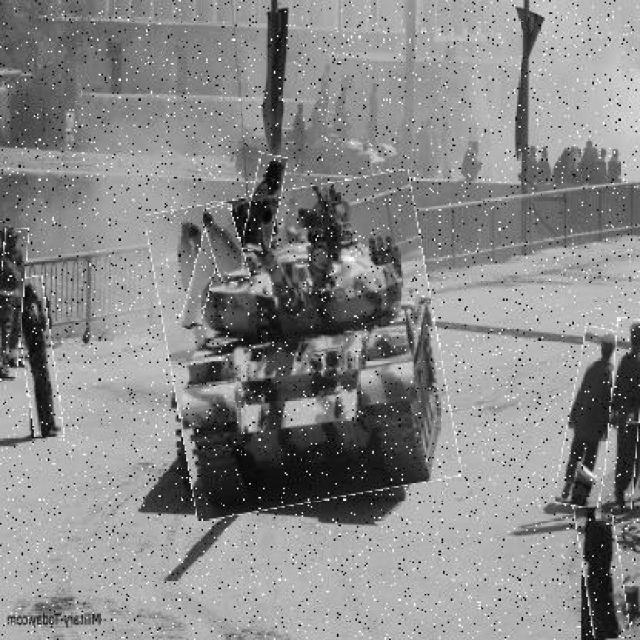Person: (563, 330, 623, 510), (573, 461, 626, 639), (607, 318, 640, 515), (21, 278, 59, 439), (189, 201, 224, 332), (3, 229, 27, 381), (247, 155, 284, 253), (207, 207, 246, 286)
Tank: (158, 183, 450, 514)
